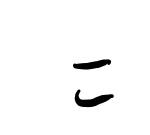eqv: (69, 56, 117, 109)
